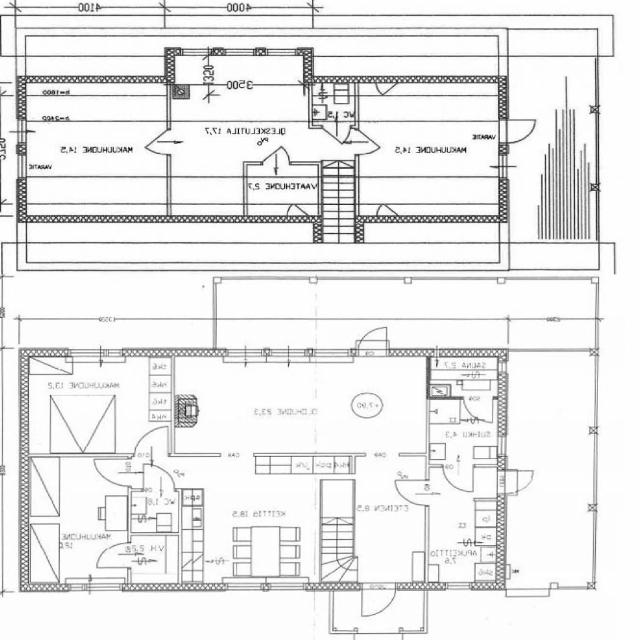door: (362, 582, 396, 618), (94, 458, 131, 486), (135, 426, 168, 456), (134, 129, 172, 155), (498, 119, 538, 143), (394, 480, 430, 506), (96, 542, 131, 567), (498, 470, 536, 493), (354, 130, 390, 154), (359, 326, 387, 356), (144, 463, 174, 491), (464, 396, 494, 423), (443, 464, 473, 490), (212, 138, 240, 165), (323, 125, 351, 150)
